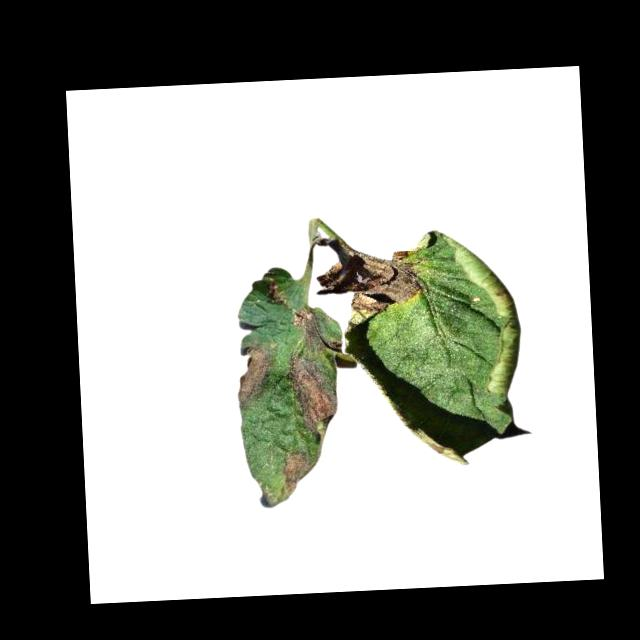Late_blight: (315, 251, 427, 319), (286, 351, 340, 444), (234, 342, 275, 409), (292, 303, 343, 355), (282, 451, 321, 496), (264, 278, 292, 309)
